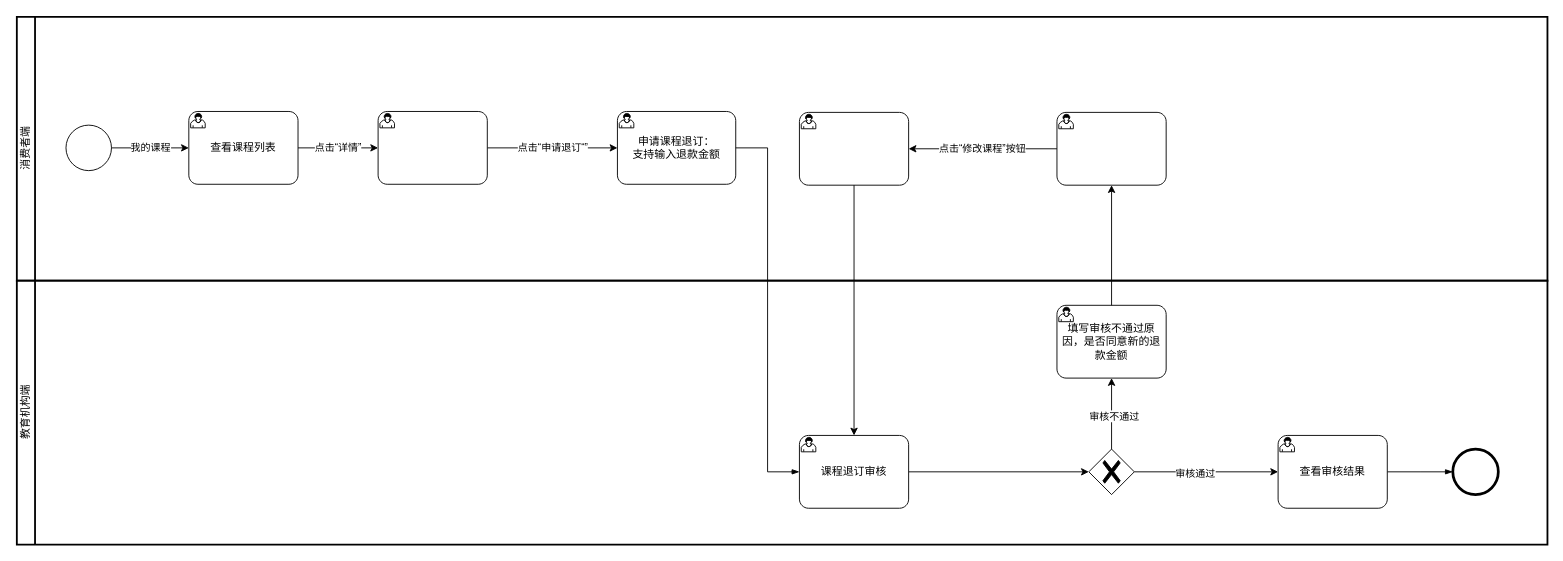
Image size: 1563x561. Some labels were removed from this diagram. Here are the shapes that lost their labels. From the top down, the centre of each, then its label:
[432,147]: 查看课程详情
[854,148]: 修改课程退订申请： 支持修改退款金额
[1111,148]: 查看退订结果： 退订原因、退款金额
